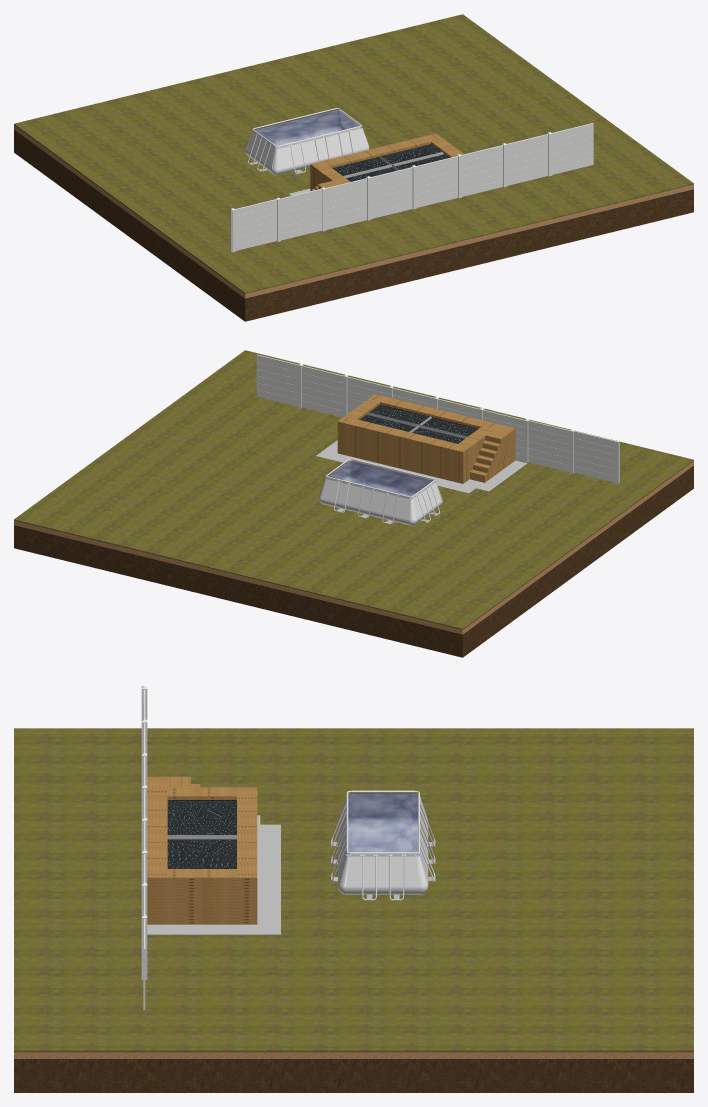
The model's file is 3dpool.glb.
The picture shows the model from 3 angles, top to bottom: view 1: azimuth 30°, elevation 25°; view 2: azimuth 150°, elevation 25°; view 3: azimuth 270°, elevation 25°; orthographic projection. The views are drawn at different scales.
Visible parts, largest first — view 1: empty_715, empty_719, empty_330, empty_717, empty_328, empty_322, empty_323, empty_324, empty_327, empty_321, empty_325, empty_326 (+2 smaller); view 2: empty_715, empty_719, empty_330, empty_717, empty_328, empty_326, empty_327, empty_325, empty_77, empty_329, empty_720, empty_321 (+3 smaller); view 3: empty_715, empty_719, empty_330, empty_717, empty_77, empty_329, empty_720.
Part boxes in pixels (box(x1,y1,x2,y2)): empty_715: box(14, 14, 693, 293); empty_719: box(14, 130, 693, 321); empty_330: box(245, 108, 369, 175); empty_717: box(14, 125, 693, 298); empty_328: box(230, 199, 276, 252); empty_322: box(366, 167, 412, 220); empty_323: box(411, 156, 457, 209); empty_324: box(456, 145, 503, 198); empty_327: box(547, 123, 593, 176); empty_321: box(321, 178, 367, 231); empty_325: box(502, 134, 548, 187); empty_326: box(275, 188, 322, 241); empty_715: box(14, 350, 693, 629); empty_719: box(14, 466, 693, 657); empty_330: box(318, 458, 442, 525); empty_717: box(14, 461, 693, 634); empty_328: box(573, 430, 619, 483); empty_326: box(528, 420, 574, 473); empty_327: box(256, 354, 303, 407); empty_325: box(302, 365, 348, 417); empty_77: box(359, 404, 478, 443); empty_329: box(326, 461, 431, 499); empty_720: box(316, 440, 526, 493); empty_321: box(483, 410, 529, 463); empty_715: box(14, 728, 693, 1052); empty_719: box(14, 1059, 693, 1092); empty_330: box(331, 790, 435, 900); empty_717: box(14, 1052, 693, 1058); empty_77: box(167, 800, 236, 868); empty_329: box(347, 794, 419, 856); empty_720: box(147, 815, 280, 934).
Size of the model in its own units: 20.33 by 3.18 by 18.14.
Materials: 77 (21 with a texture image).
